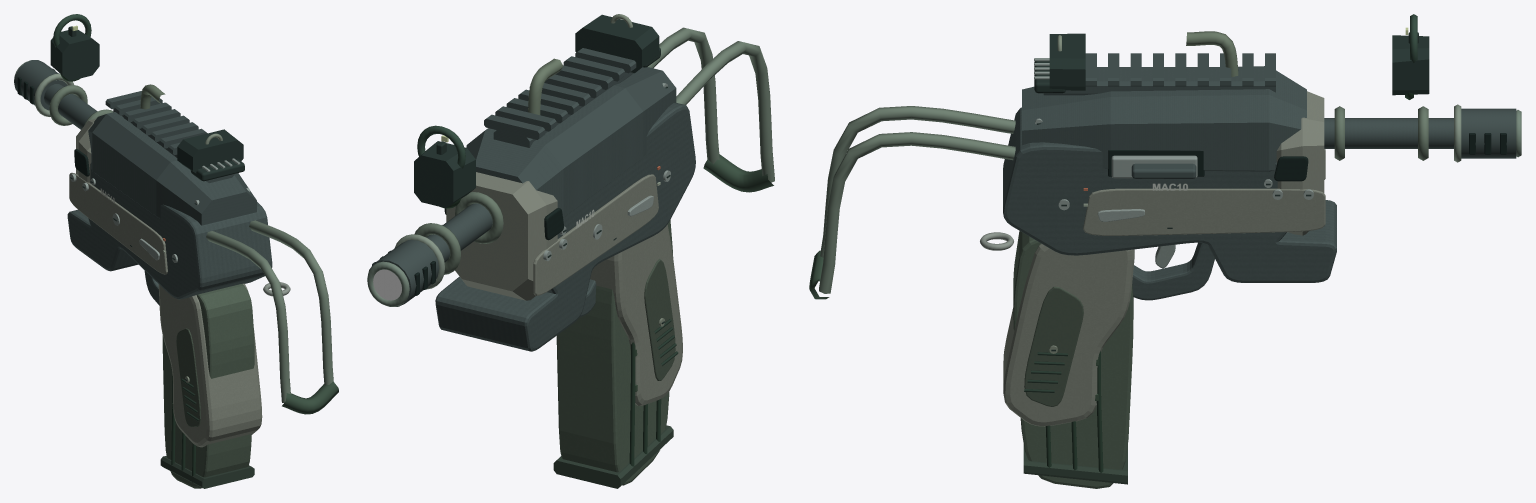
Rendered from mac10.glb.
3 renders of one model, left to right at view 1: azimuth 30°, elevation 25°; view 2: azimuth 150°, elevation 25°; view 3: azimuth 270°, elevation 25°, orthographic. The views are drawn at different scales.
Parts seen in each view (by area): view 1: mac10, magazine; view 2: mac10, magazine; view 3: mac10, magazine, bolt.
Part boxes in pixels (<box>): mac10: <box>14,14,338,447</box>; magazine: <box>160,284,254,488</box>; mac10: <box>367,14,774,405</box>; magazine: <box>553,220,673,488</box>; mac10: <box>809,14,1521,426</box>; magazine: <box>1013,231,1133,488</box>; bolt: <box>1111,155,1197,178</box>.
Size of the model in its own units: 0.1613 by 0.5888 by 0.8273.
Materials: 30 (14 with a texture image).
